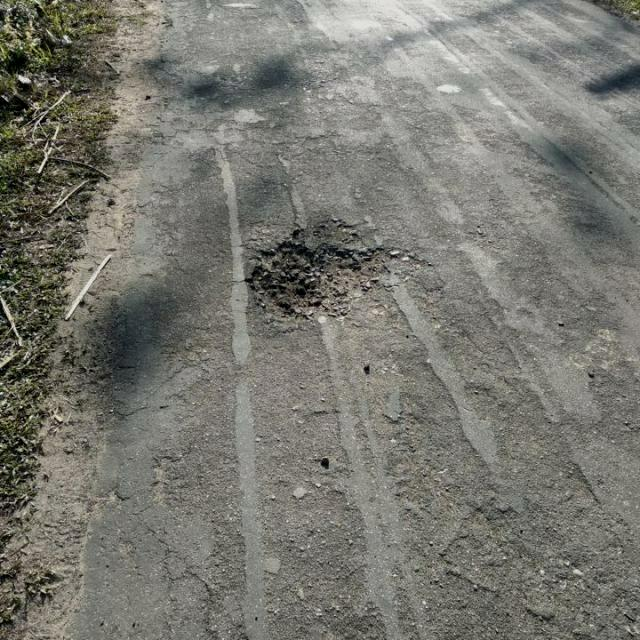Pothole: (246, 220, 414, 324)
